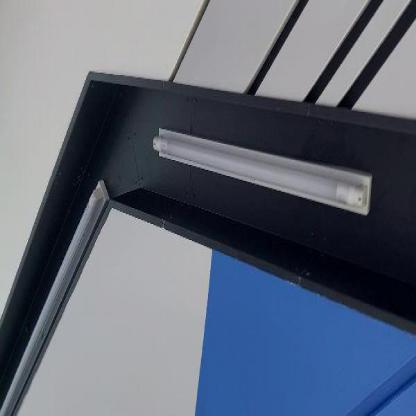light_off: (0, 162, 121, 415), (147, 102, 383, 220)
